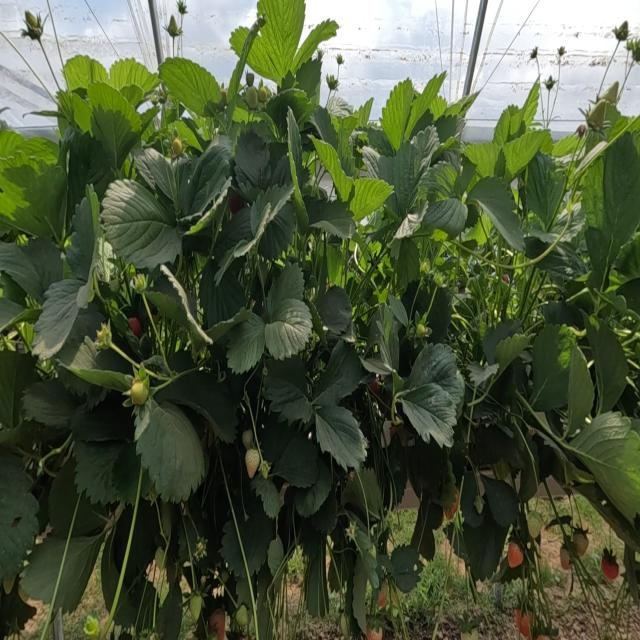Leaves: (565, 412, 640, 519), (135, 399, 207, 503), (100, 180, 183, 268), (21, 533, 104, 612), (155, 370, 238, 442), (0, 148, 66, 234), (0, 450, 38, 580), (603, 133, 640, 264), (32, 279, 89, 359), (180, 136, 231, 219), (90, 84, 140, 168), (468, 178, 525, 251), (0, 237, 63, 303), (531, 324, 576, 411), (586, 321, 627, 412), (406, 344, 464, 408), (400, 383, 456, 447), (160, 57, 221, 115), (75, 436, 127, 504), (258, 0, 305, 75), (463, 504, 508, 581), (315, 403, 367, 469), (264, 356, 312, 424), (525, 152, 566, 231), (315, 340, 363, 407), (200, 260, 246, 328), (265, 299, 312, 360), (23, 378, 78, 426), (392, 140, 426, 217), (48, 458, 80, 539), (566, 345, 594, 435), (273, 433, 318, 488), (380, 79, 414, 149), (250, 181, 293, 235), (227, 313, 265, 374), (239, 507, 273, 575), (503, 130, 552, 177), (266, 264, 304, 323), (305, 197, 354, 239), (259, 204, 295, 259), (247, 35, 287, 84), (235, 130, 270, 183), (422, 198, 468, 238), (316, 287, 352, 337), (483, 478, 518, 526), (390, 545, 422, 592), (221, 521, 245, 578), (410, 126, 440, 171), (465, 142, 500, 177), (72, 499, 102, 536), (467, 361, 499, 387), (229, 26, 250, 57), (389, 295, 408, 327)
Strawberries: (21, 10, 43, 46), (586, 100, 609, 130), (601, 548, 619, 582), (128, 378, 148, 405), (514, 609, 531, 639), (245, 449, 260, 479), (527, 510, 543, 538), (444, 491, 459, 520), (507, 541, 523, 567), (165, 15, 181, 41), (601, 81, 619, 104), (573, 531, 589, 556), (95, 324, 111, 348), (189, 594, 202, 621), (612, 21, 628, 41), (128, 317, 142, 338), (154, 547, 166, 571), (194, 537, 206, 561), (245, 85, 257, 109), (236, 604, 248, 627), (560, 547, 571, 569), (242, 430, 254, 449), (171, 137, 183, 156), (416, 323, 431, 338), (259, 460, 270, 479), (258, 82, 267, 103), (218, 569, 229, 584), (371, 380, 378, 393)
